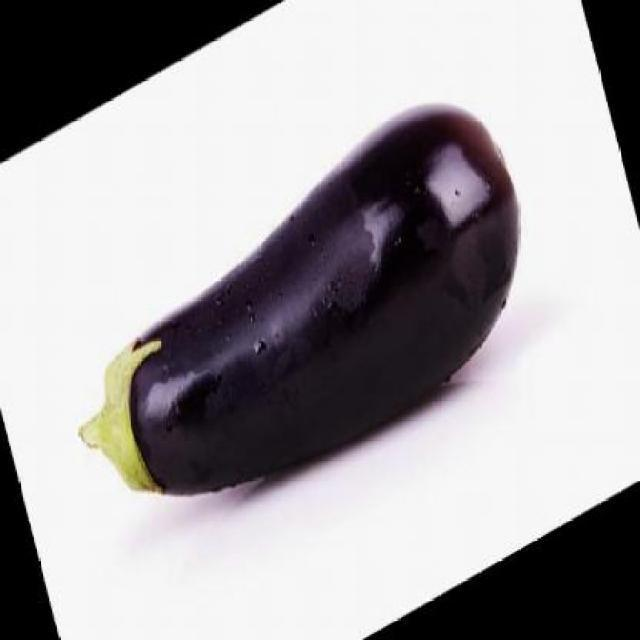eggplant: (46, 59, 552, 578)
